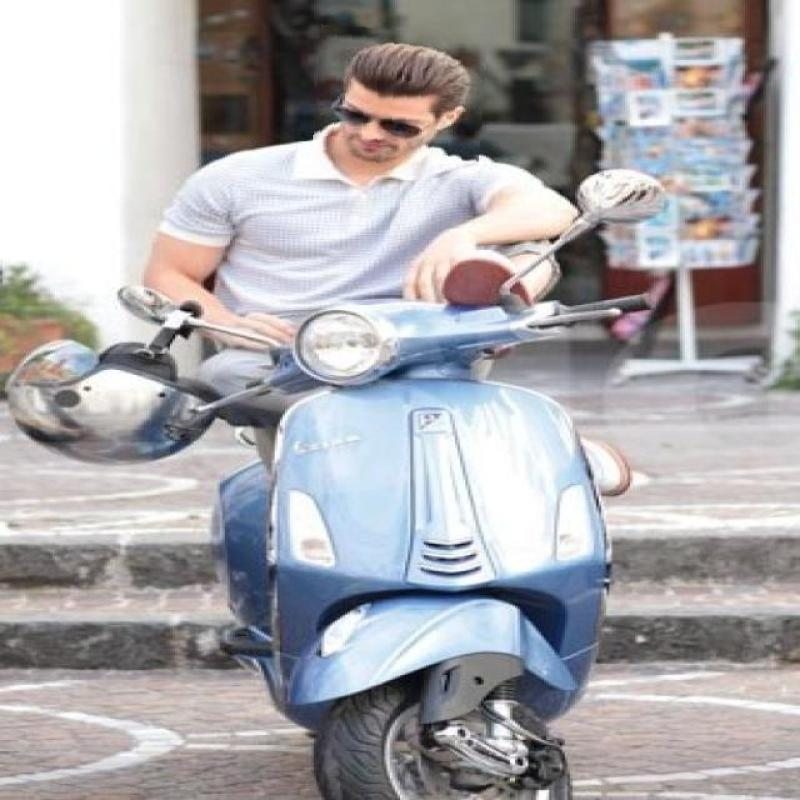nohelmet: (314, 27, 486, 178)
